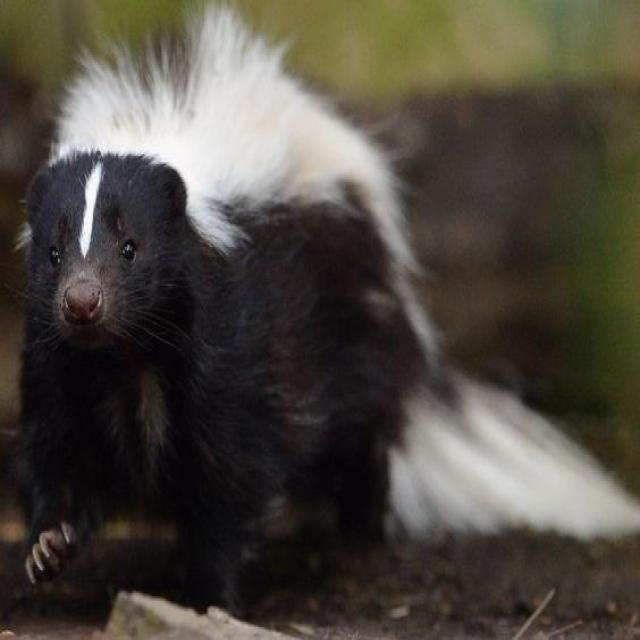Skunk: (0, 16, 458, 588)
